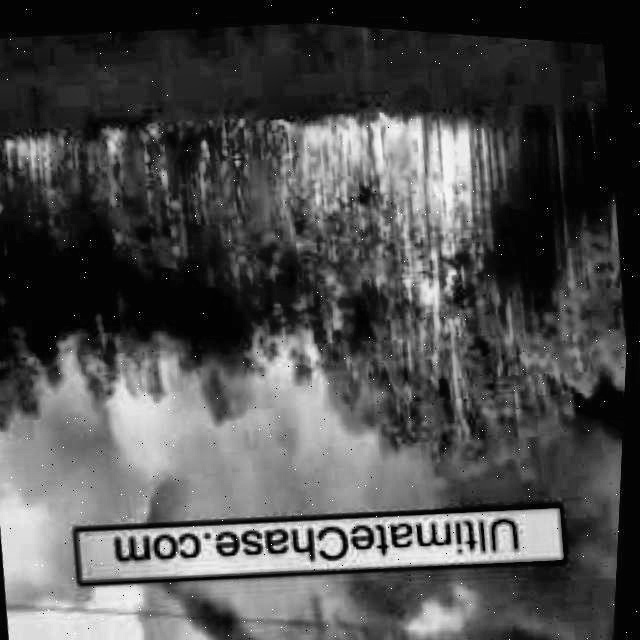Fire: (279, 88, 512, 328), (102, 119, 167, 187), (0, 130, 69, 194)
Smoke: (0, 315, 500, 567), (134, 518, 622, 640)
